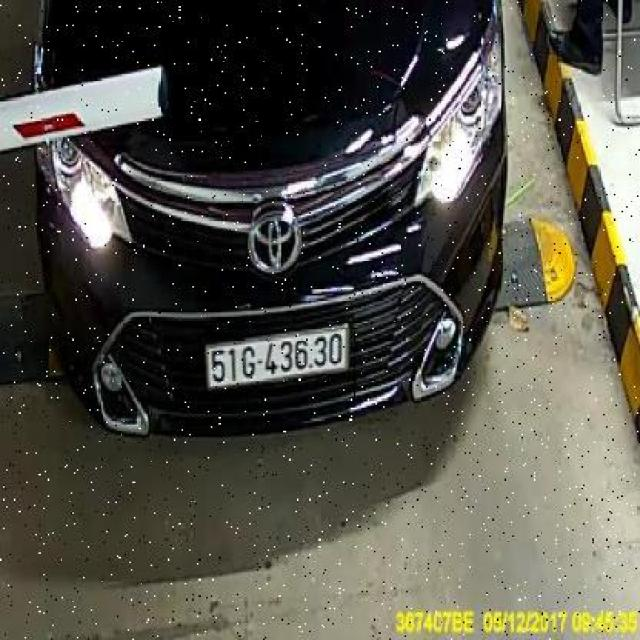number_plate: (202, 317, 356, 398)
